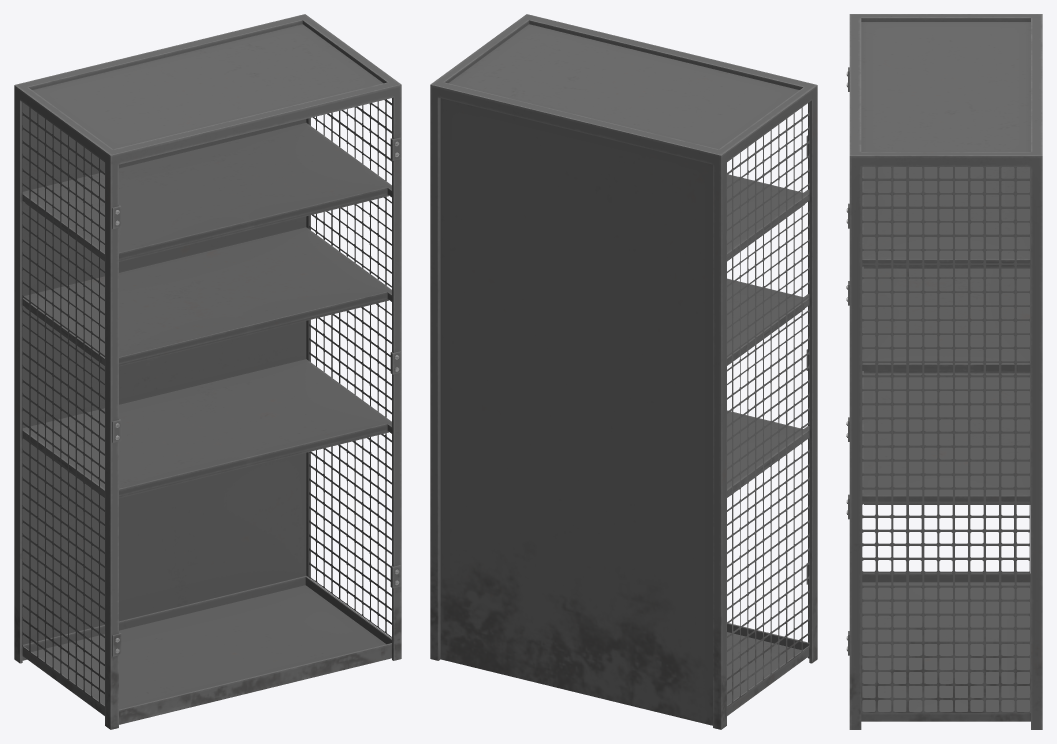
Rendered from SM_ventilated_locker.fbx.
3 renders of one model, left to right at view 1: azimuth 30°, elevation 25°; view 2: azimuth 150°, elevation 25°; view 3: azimuth 270°, elevation 25°, orthographic.
Visible parts, largest first — view 1: SM_ventilated_locker_LOD0; view 2: SM_ventilated_locker_LOD0; view 3: SM_ventilated_locker_LOD0.
Part boxes in pixels (<box>): SM_ventilated_locker_LOD0: <box>14,14,401,729</box>; SM_ventilated_locker_LOD0: <box>430,14,817,729</box>; SM_ventilated_locker_LOD0: <box>846,14,1042,729</box>.
Size of the model in its own units: 146 by 85.42 by 276.
Materials: 1 (1 with a texture image).
